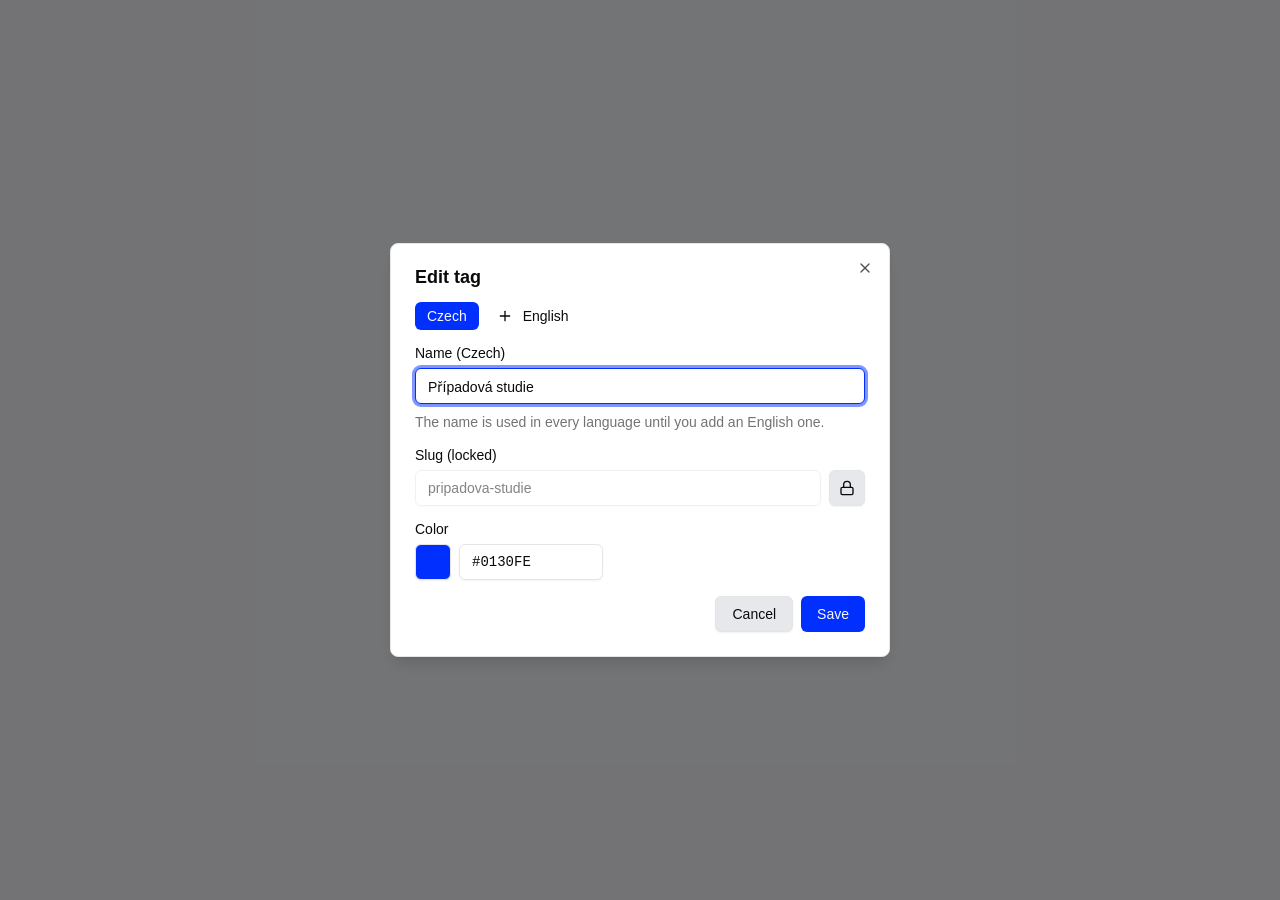
it: TagFormDialog translations › should send the version of the tag and tell a stale one with a dialog, keeping the input
Type " 2" into the field labelled "Name (Czech)" at (640, 386), box [415, 368, 865, 404]
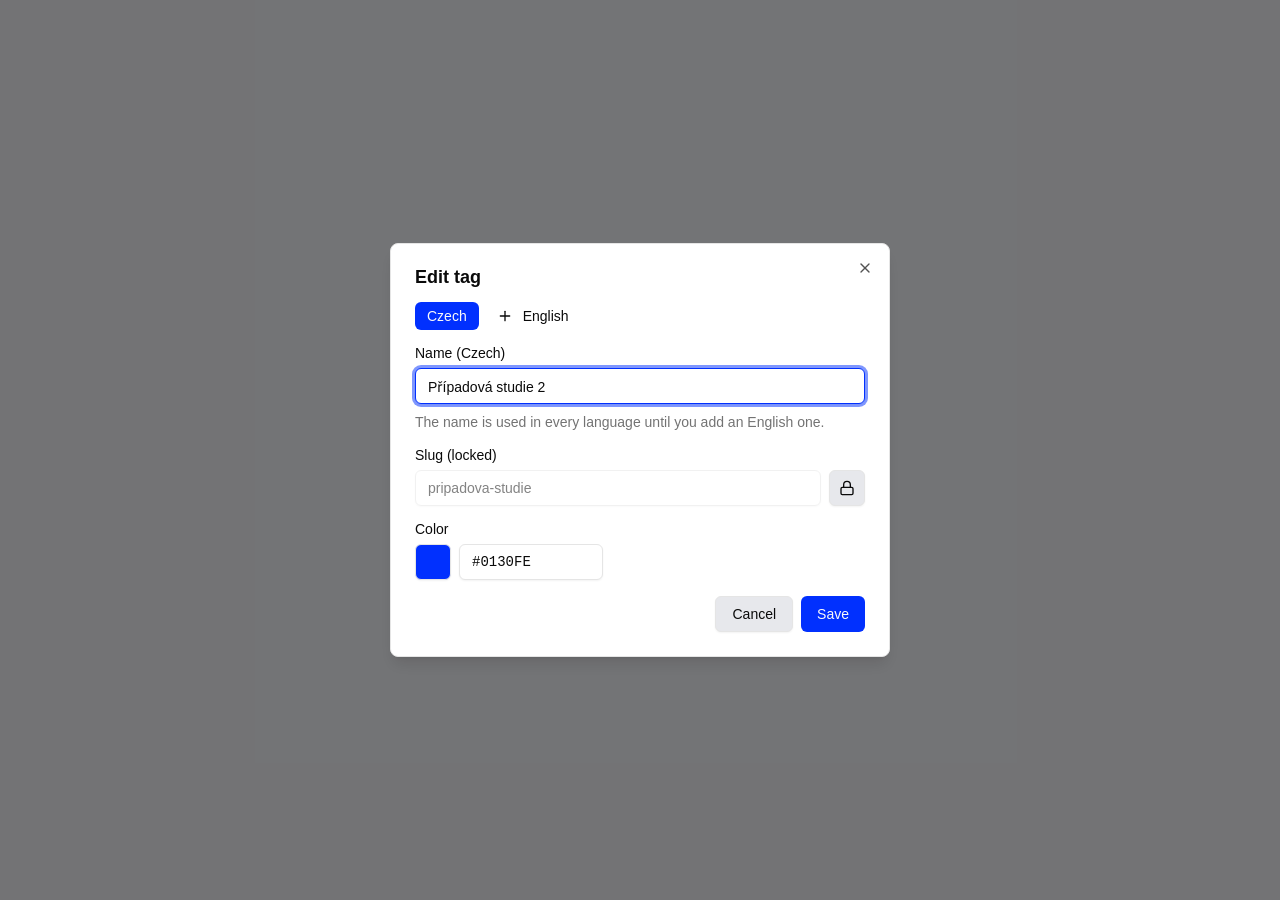
Click the button "Save" at (833, 614), box [801, 596, 865, 632]
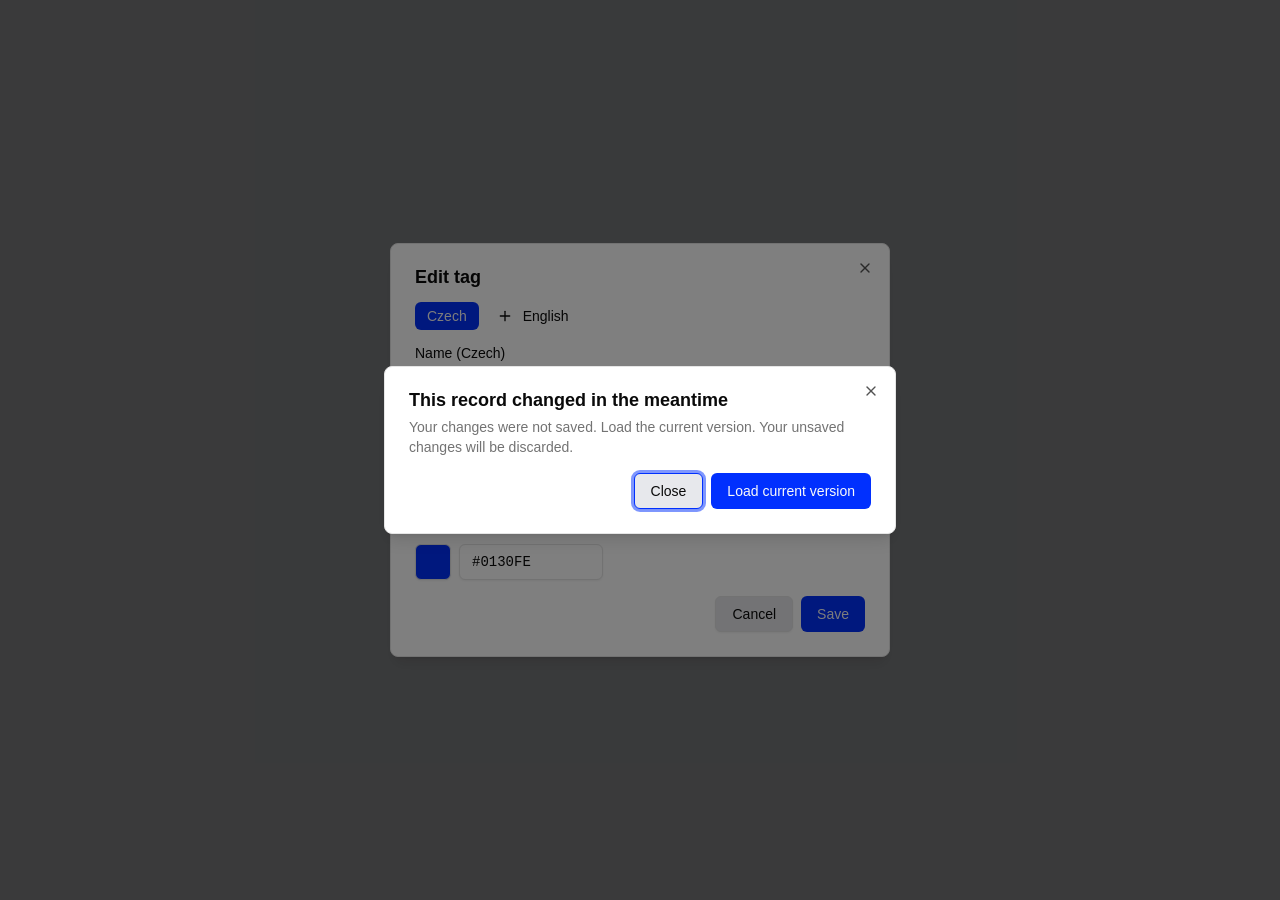
Now the dialog "This record changed in the meantime" is shown, box [384, 366, 896, 534]
